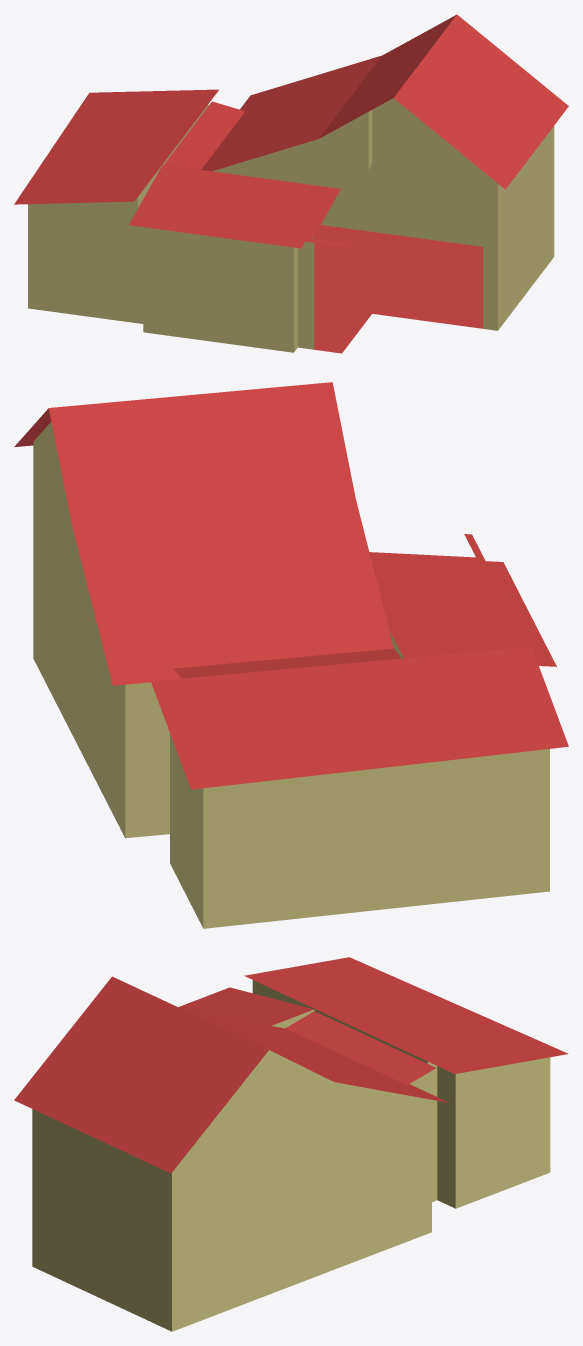
3 views of the same model, one above another, from view 1: azimuth 30°, elevation 25°; view 2: azimuth 150°, elevation 25°; view 3: azimuth 270°, elevation 25° (orthographic). The views are drawn at different scales.
Size of the model in its own units: 23.75 by 21.28 by 10.68.
